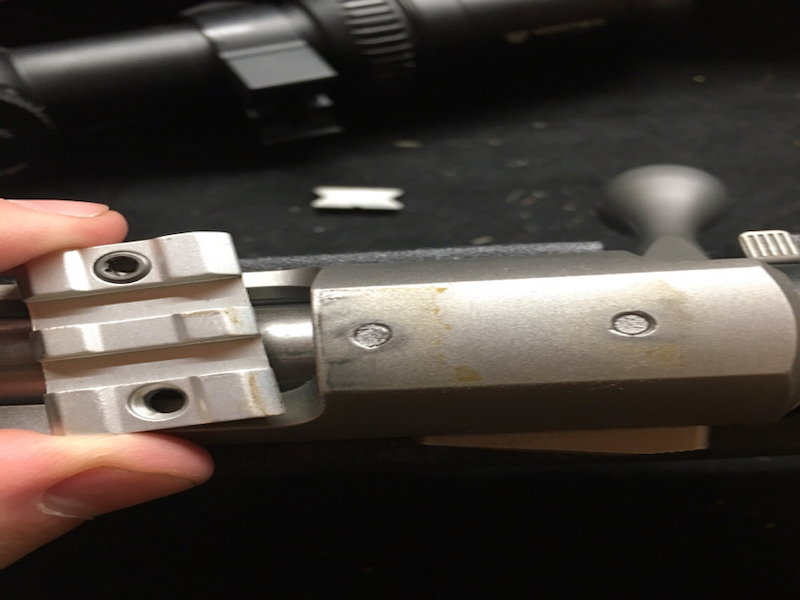hole: (145, 387, 190, 418)
screw: (92, 251, 153, 287)
